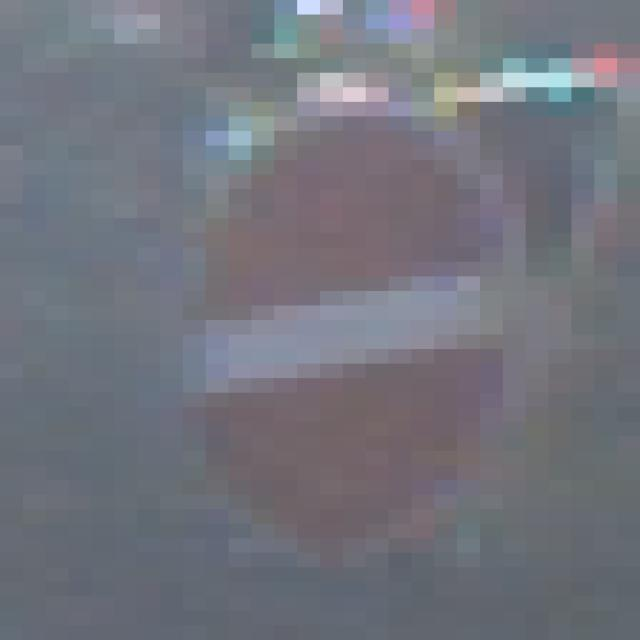No Entry: (138, 74, 527, 568)
